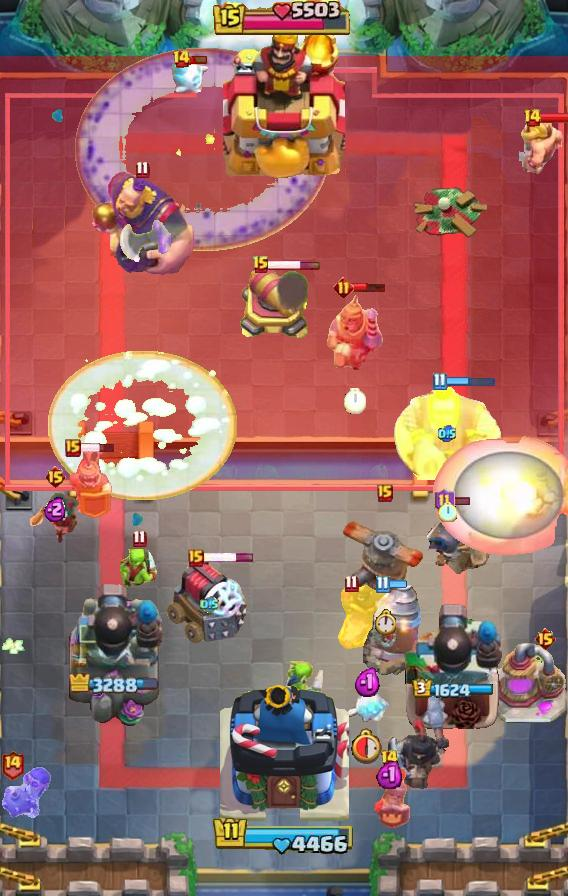bat: (170, 57, 212, 99), (346, 691, 390, 725)
clock: (212, 815, 356, 857), (213, 0, 355, 38)
dark-prince: (340, 507, 430, 597)
earthquake: (59, 446, 113, 522)
electro-spirit: (354, 667, 382, 698), (376, 759, 402, 789), (45, 496, 68, 522), (438, 425, 456, 443), (200, 595, 219, 612)
elixir: (351, 727, 385, 764), (344, 388, 366, 414), (374, 609, 396, 635), (438, 502, 457, 523)
emote: (444, 375, 496, 388), (267, 260, 321, 272), (201, 553, 254, 564), (79, 442, 116, 454), (351, 283, 387, 294), (540, 112, 568, 124), (188, 54, 208, 65), (388, 579, 407, 590), (452, 496, 471, 506)
freeze: (335, 580, 391, 650)
giant-skeleton: (392, 386, 502, 480)
goblin-ball: (0, 765, 54, 821)
goblin-giant: (519, 121, 565, 175)
golem: (166, 556, 252, 646)
inferno-dragon: (386, 690, 452, 796)
king-tower: (219, 678, 349, 826), (223, 27, 345, 181)
lightning: (89, 169, 195, 279)
magic-archer: (363, 584, 423, 676)
pekka: (490, 643, 568, 725)
phoenix-big: (48, 351, 236, 500)
princess: (367, 766, 411, 830)
ram-rider: (324, 291, 386, 373)
rocket: (74, 47, 330, 251)
royal-giant: (119, 218, 171, 268)
royal-giant-evolution: (426, 504, 494, 574)
royal-recruit: (239, 269, 311, 343)
selected: (69, 673, 159, 697), (412, 677, 494, 699)
tesla: (29, 489, 81, 547)
text: (0, 749, 24, 780), (45, 465, 68, 489), (535, 627, 558, 651), (433, 488, 454, 514), (334, 278, 355, 299), (173, 49, 192, 69), (523, 108, 542, 128), (381, 749, 400, 769), (252, 255, 270, 275), (65, 439, 81, 457), (377, 484, 393, 502), (188, 549, 204, 567), (344, 575, 359, 594), (433, 372, 447, 391), (133, 528, 147, 547), (375, 575, 389, 594), (135, 161, 149, 179)
tower-bar: (63, 579, 165, 731), (403, 601, 503, 731)
valkyrie: (432, 436, 568, 556)
zap: (278, 659, 326, 703), (118, 549, 160, 591)
